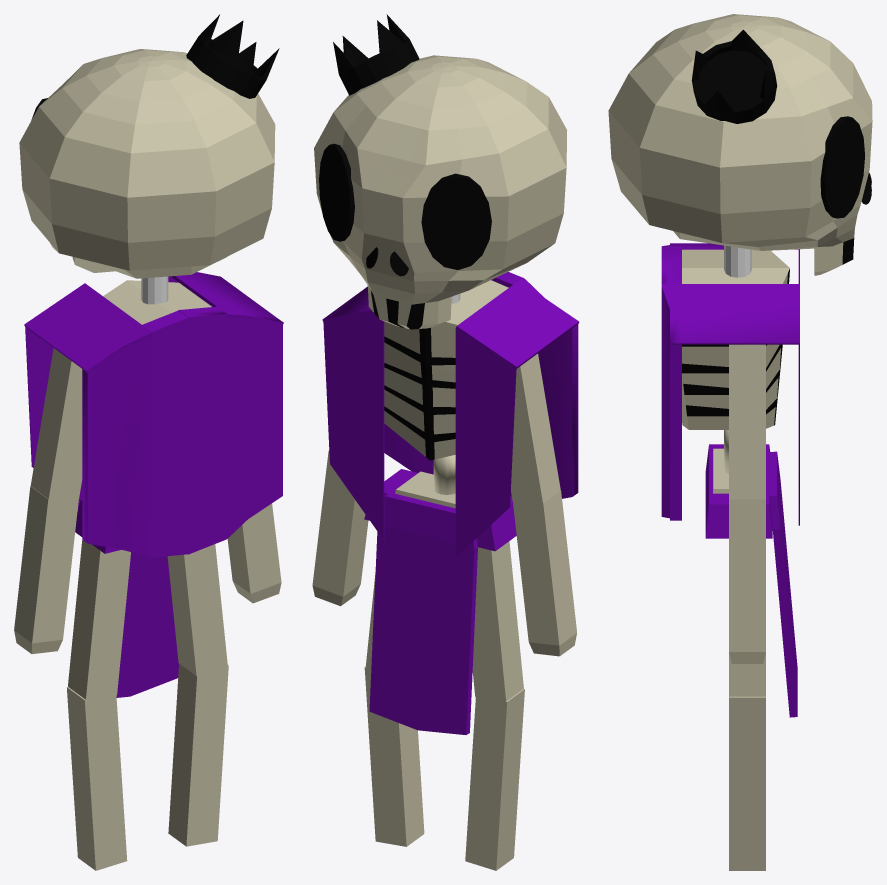
Rendered from ГГ Скелет.fbx.
3 views of the same model, side by side, from view 1: azimuth 30°, elevation 25°; view 2: azimuth 150°, elevation 25°; view 3: azimuth 270°, elevation 25° (orthographic). The views are drawn at different scales.
Visible parts, largest first — view 1: Cube.012, Plane.030, Cube.011, Cube.010, Cube.007, Cube.008, Cube.006, Cylinder.004, Cube.077; view 2: Plane.030, Cube.012, Cube.008, Cube.011, Cube.007, Cube.077, Cube.010, Cube.006, Cylinder.004, Cube.009; view 3: Plane.030, Cube.012, Cube.077, Cube.011, Cube.007, Cylinder.004, Cube.006, Cube.008, Cube.010, Cube.009.
Part boxes in pixels (<box>): Cube.012: <box>24,272,283,557</box>; Plane.030: <box>19,49,275,278</box>; Cube.011: <box>67,663,228,870</box>; Cube.010: <box>68,540,227,699</box>; Cube.007: <box>14,486,281,653</box>; Cube.008: <box>75,499,178,697</box>; Cube.006: <box>30,348,82,499</box>; Cylinder.004: <box>186,14,279,98</box>; Cube.077: <box>103,276,211,324</box>; Plane.030: <box>314,55,567,329</box>; Cube.012: <box>322,272,579,557</box>; Cube.008: <box>364,469,516,734</box>; Cube.011: <box>364,667,524,870</box>; Cube.007: <box>312,451,576,656</box>; Cube.077: <box>384,280,508,460</box>; Cube.010: <box>365,541,523,701</box>; Cube.006: <box>329,353,560,503</box>; Cylinder.004: <box>333,14,419,95</box>; Cube.009: <box>395,455,455,508</box>; Plane.030: <box>608,14,872,275</box>; Cube.012: <box>661,243,799,525</box>; Cube.077: <box>682,245,789,429</box>; Cube.011: <box>729,696,765,870</box>; Cube.007: <box>729,499,765,663</box>; Cylinder.004: <box>691,29,777,123</box>; Cube.006: <box>729,344,765,499</box>; Cube.008: <box>705,444,797,717</box>; Cube.010: <box>729,653,765,696</box>; Cube.009: <box>713,430,728,493</box>.
Bounding box in the file's own units: 92.33 × 290 × 81.97.
